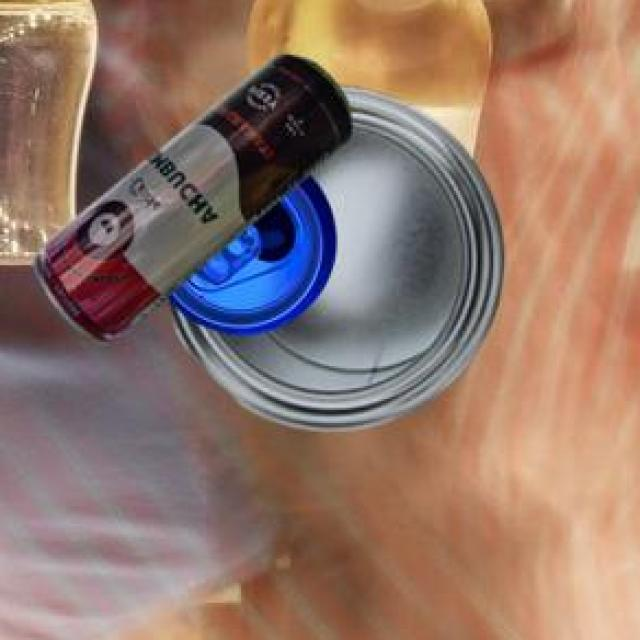logam: (168, 91, 499, 433), (32, 58, 347, 347), (165, 179, 332, 339)
